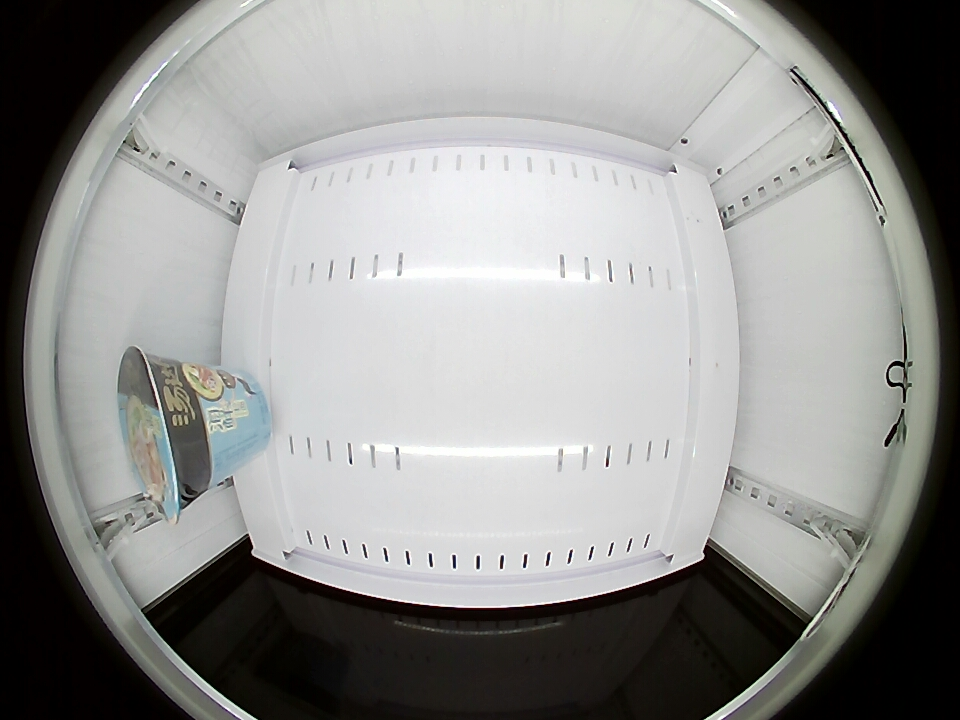tangdaren3: (117, 347, 215, 521)
